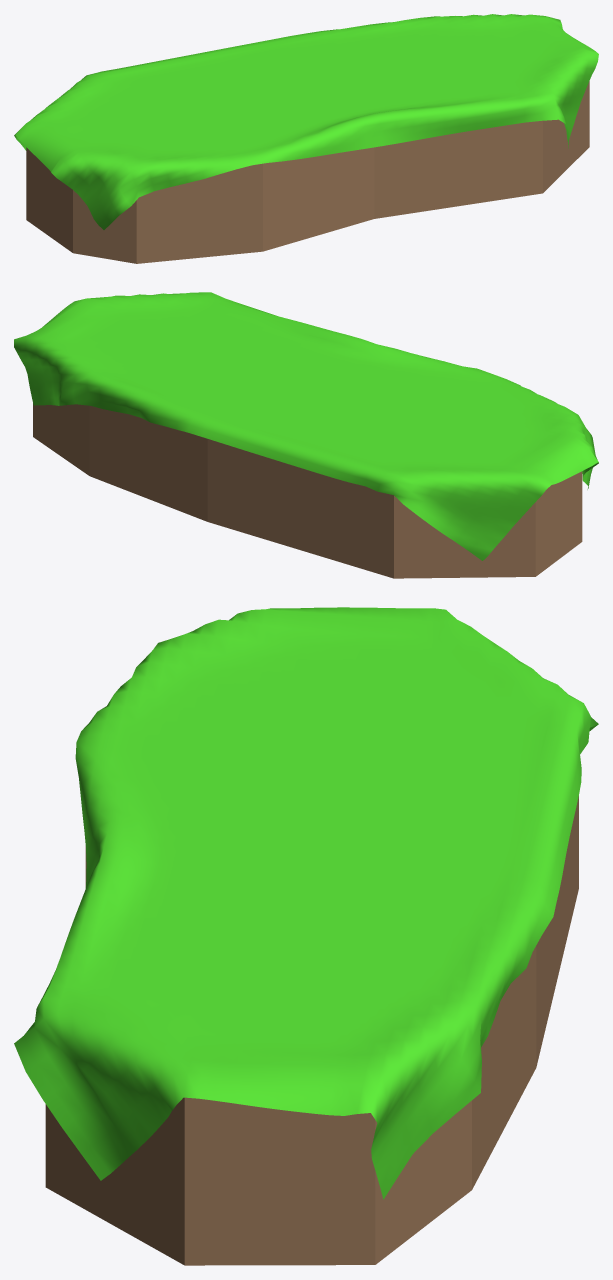
File: SmallBloc02.fbx
The picture shows the model from 3 angles, top to bottom: view 1: azimuth 30°, elevation 25°; view 2: azimuth 150°, elevation 25°; view 3: azimuth 270°, elevation 25°; orthographic projection. The views are drawn at different scales.
Visible parts, largest first — view 1: SmallBloc02; view 2: SmallBloc02; view 3: SmallBloc02.
Part boxes in pixels (x1,y1,x2,y2): SmallBloc02: (14, 14, 598, 263); SmallBloc02: (14, 292, 598, 578); SmallBloc02: (14, 607, 598, 1265).
Bounding box in the file's own units: 1062 × 196 × 519.
